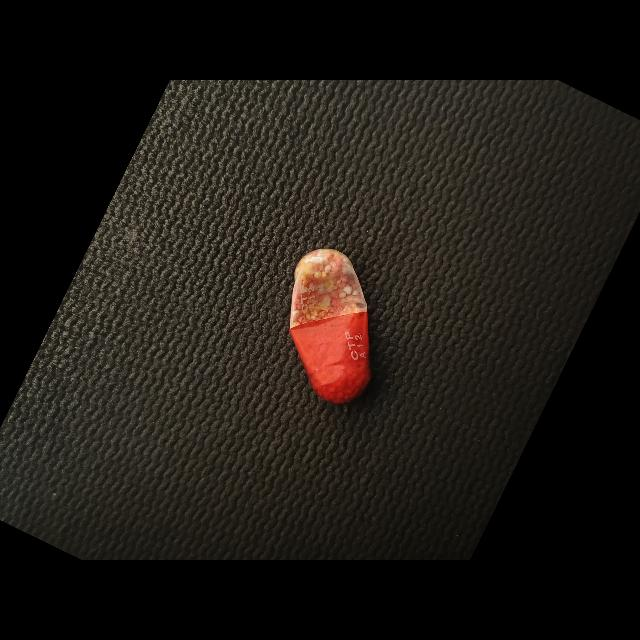Defective Capsule: (289, 249, 371, 403)
